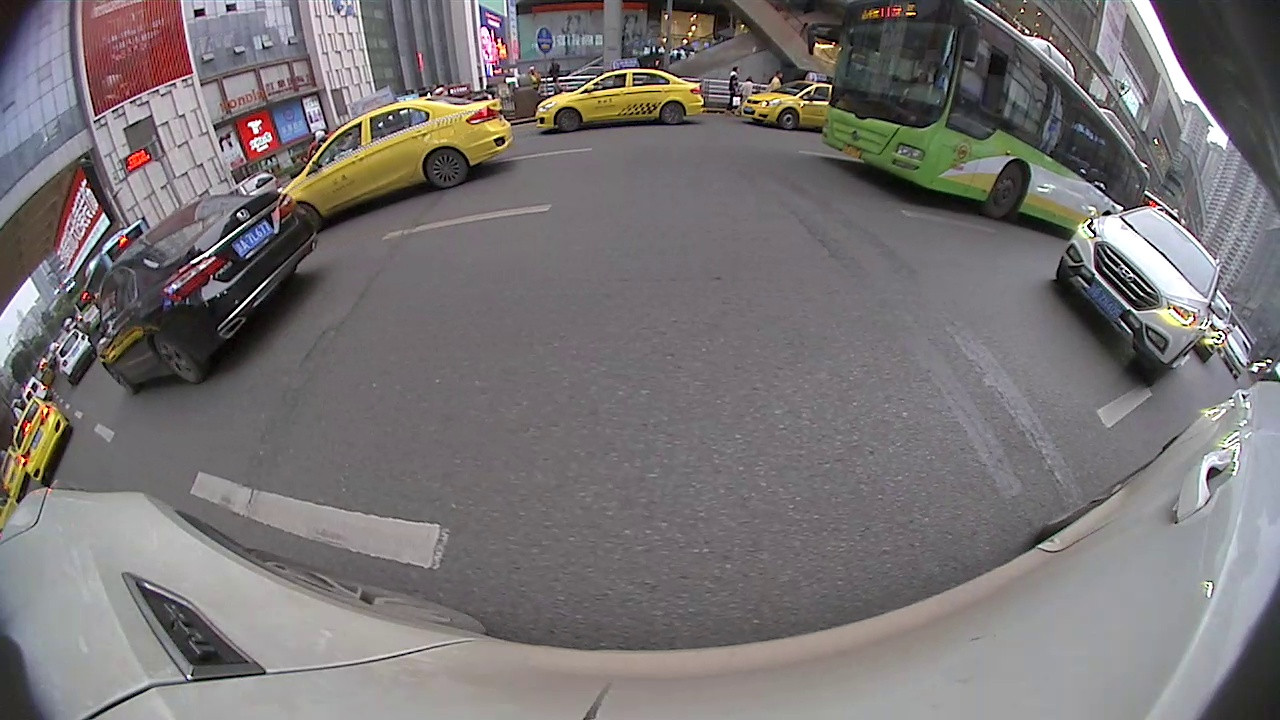bus: (819, 1, 1152, 239)
car: (97, 192, 318, 397), (279, 96, 515, 234), (1054, 208, 1226, 389), (534, 65, 704, 135), (9, 393, 73, 491), (739, 77, 833, 132), (55, 328, 97, 388), (1219, 325, 1256, 380)
front: (983, 157, 1026, 221), (558, 110, 582, 132), (780, 110, 798, 130)
person: (729, 68, 739, 111)
rear: (151, 336, 198, 382), (424, 148, 470, 187), (663, 102, 686, 123)
